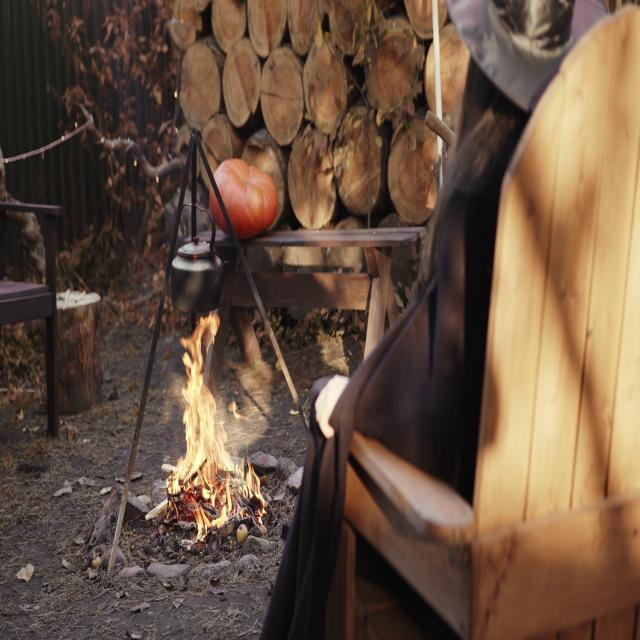Fire: (171, 303, 270, 538)
